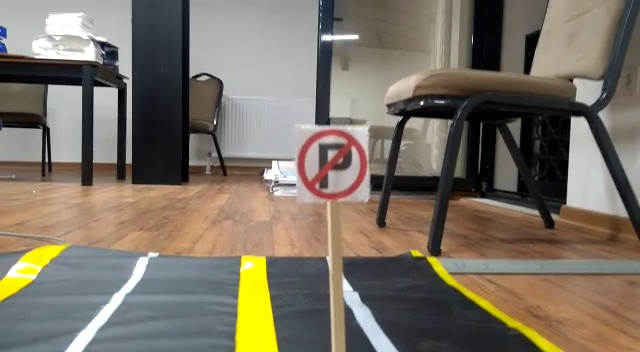park_yapilmaz: (294, 127, 372, 199)
